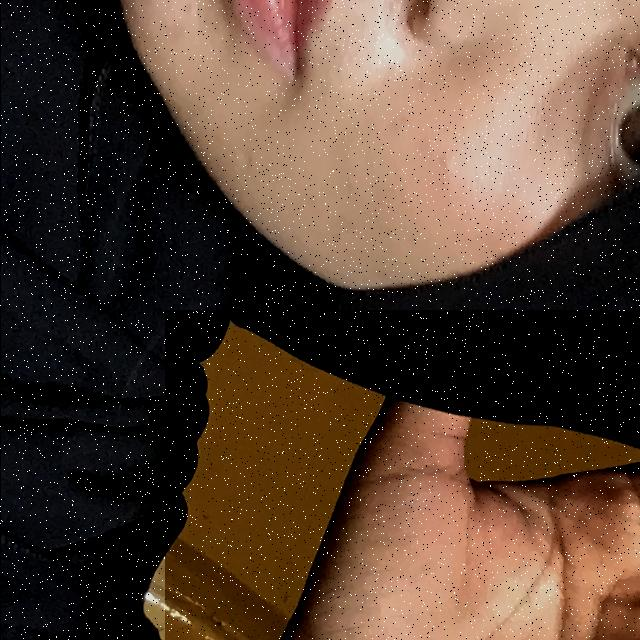mendengar: (164, 310, 640, 640)
